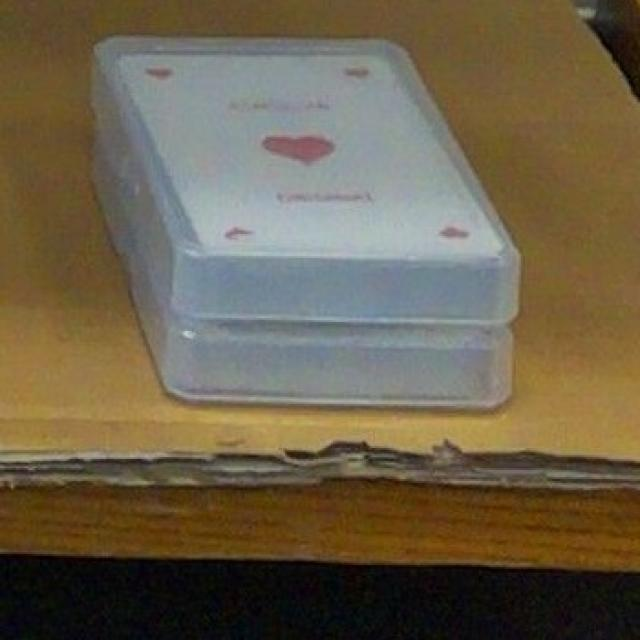Jasskarte: (89, 35, 522, 325), (90, 117, 515, 408)
